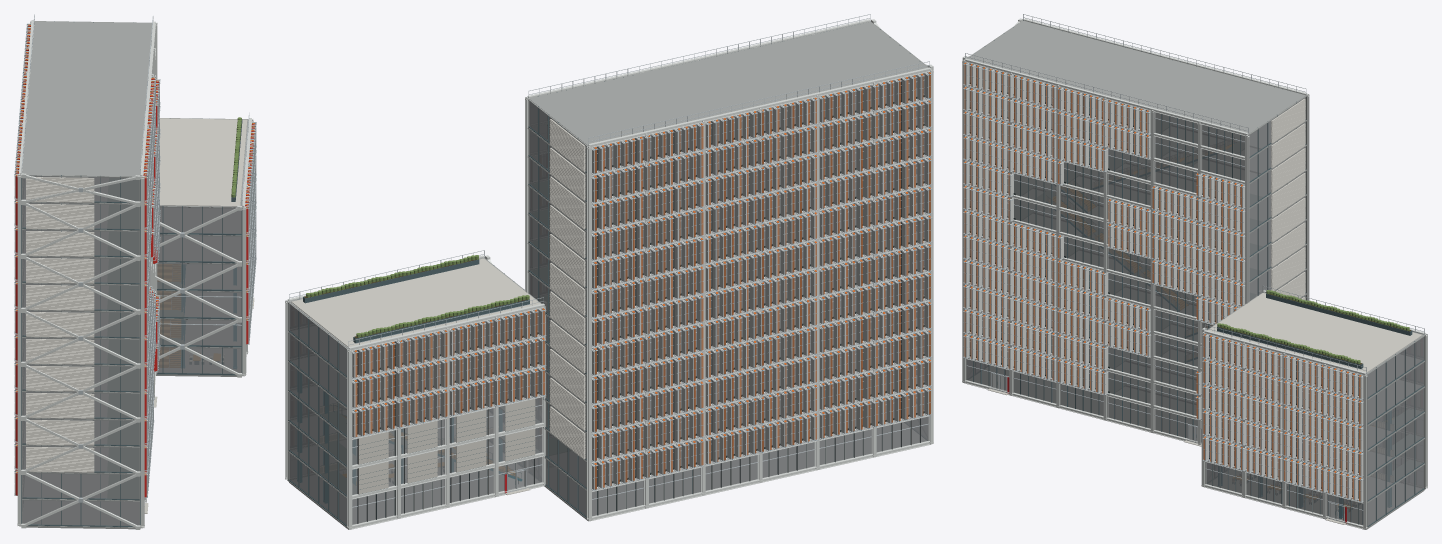
File: cbg-exterior-8b096a72ff3e.glb
3 views of the same model, side by side, from view 1: azimuth 30°, elevation 25°; view 2: azimuth 150°, elevation 25°; view 3: azimuth 270°, elevation 25° (orthographic). The views are drawn at different scales.
Visible parts, largest first — view 1: CBG.001; view 2: CBG.001; view 3: CBG.001.
Boxes of the visible parts, box(x1,y1,x2,y2) form: CBG.001: box(14, 14, 256, 529); CBG.001: box(285, 14, 933, 529); CBG.001: box(962, 14, 1427, 529).
Bounding box in the file's own units: 66.1 × 53.56 × 68.49.
